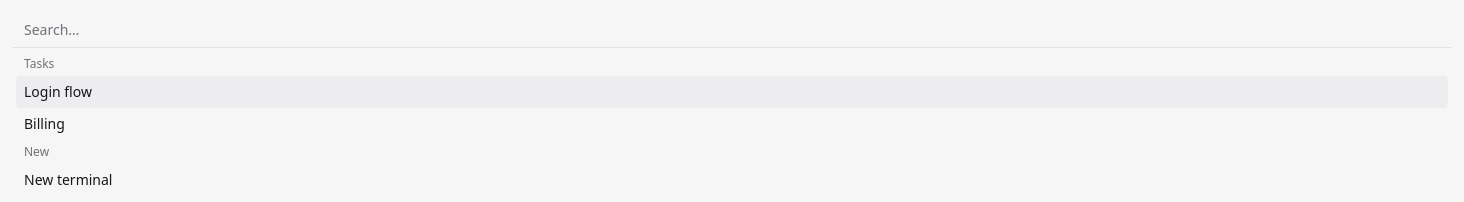
Scenario: ComboboxList › shows the empty text when nothing matches
This screenshot has width=1464, height=202.
Type "t-1" into the dropdown.
click(732, 30); type("t-1")  # box [12,12,1452,48]
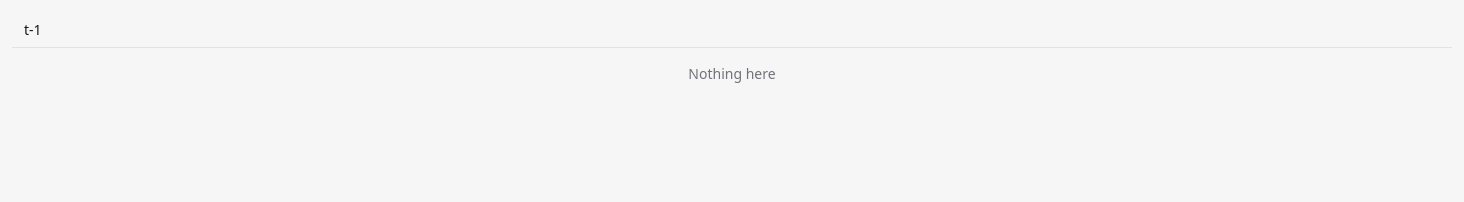
expect the text "Nothing here" is shown: met, box [688,64,776,83]
